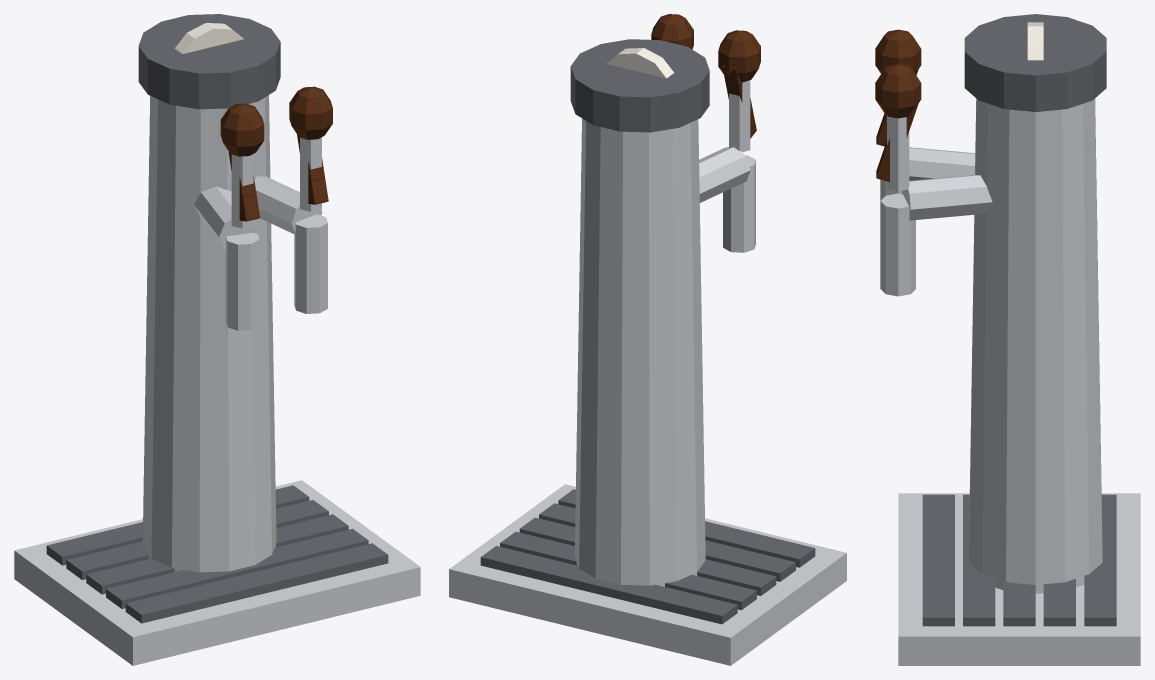
File: beer_tap_tower.glb
The picture shows the model from 3 angles, left to right: view 1: azimuth 30°, elevation 25°; view 2: azimuth 150°, elevation 25°; view 3: azimuth 270°, elevation 25°; orthographic projection. The views are drawn at different scales.
Visible parts, largest first — view 1: beer-tap-tower-steel, beer-tap-tower-charcoal, beer-tap-tower-darkwood, beer-tap-tower-cream; view 2: beer-tap-tower-steel, beer-tap-tower-charcoal, beer-tap-tower-darkwood, beer-tap-tower-cream; view 3: beer-tap-tower-steel, beer-tap-tower-charcoal, beer-tap-tower-darkwood, beer-tap-tower-cream.
Boxes of the visible parts, box(x1,y1,x2,y2) form: beer-tap-tower-steel: box(14, 95, 420, 665); beer-tap-tower-charcoal: box(46, 14, 388, 623); beer-tap-tower-darkwood: box(220, 86, 332, 221); beer-tap-tower-cream: box(175, 23, 243, 53); beer-tap-tower-steel: box(449, 80, 846, 665); beer-tap-tower-charcoal: box(480, 39, 815, 624); beer-tap-tower-darkwood: box(651, 14, 760, 138); beer-tap-tower-cream: box(606, 48, 673, 78); beer-tap-tower-steel: box(880, 98, 1140, 665); beer-tap-tower-charcoal: box(922, 14, 1116, 626); beer-tap-tower-darkwood: box(875, 29, 921, 181); beer-tap-tower-cream: box(1027, 22, 1043, 60).
Size of the model in its own units: 0.42 by 0.775 by 0.3285.
Materials: 4 (1 with a texture image).
